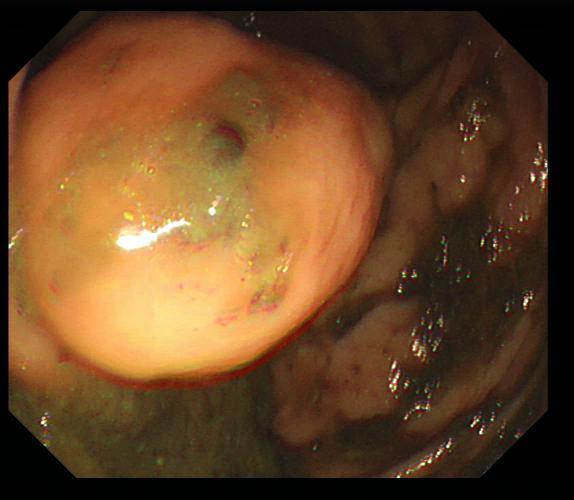polyp: (24, 22, 388, 379)
